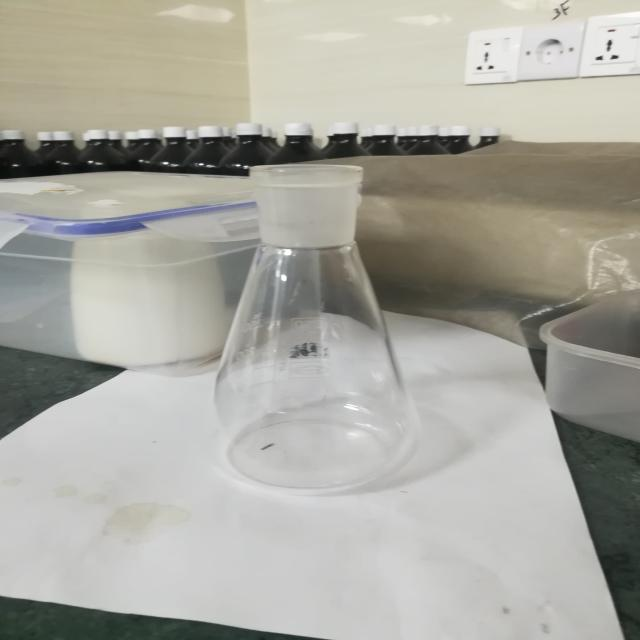Conical_Flask: (162, 136, 445, 503)
